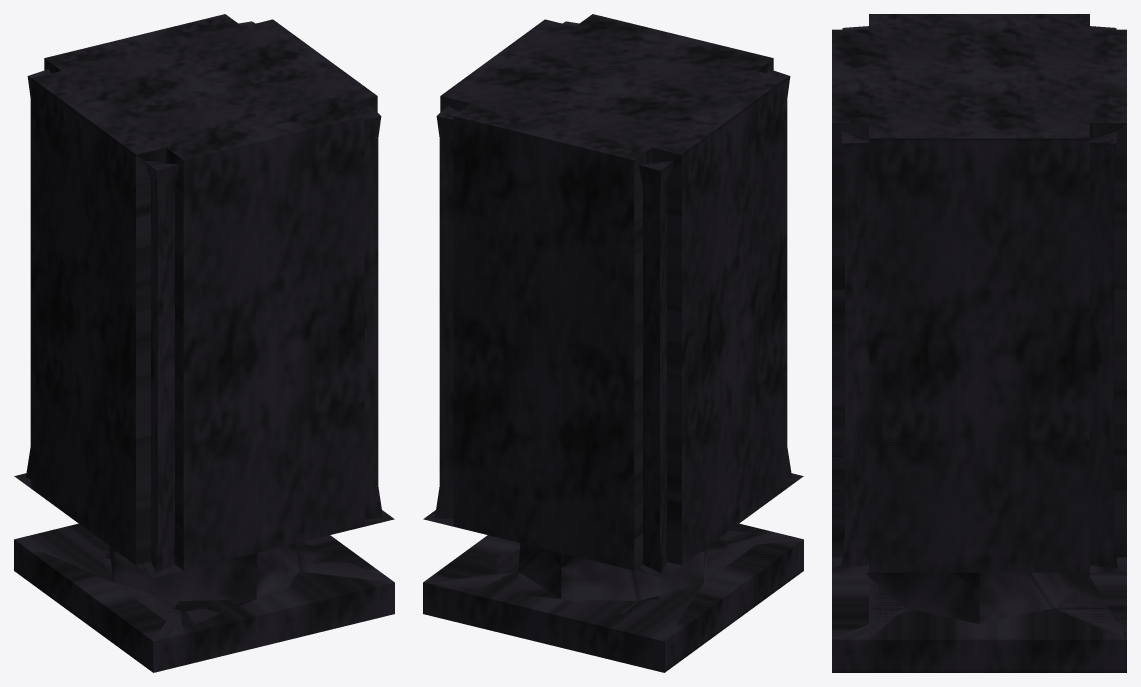
The model's file is DarknessObelisk.obj.
3 renders of one model, left to right at view 1: azimuth 30°, elevation 25°; view 2: azimuth 150°, elevation 25°; view 3: azimuth 270°, elevation 25°, orthographic. The views are drawn at different scales.
Parts seen in each view (by area): view 1: pCube1; view 2: pCube1; view 3: pCube1.
Part boxes in pixels (bbox=[...]): pCube1: bbox=[14, 14, 394, 672]; pCube1: bbox=[423, 14, 803, 672]; pCube1: bbox=[832, 14, 1126, 672].
Bounding box in the file's own units: 1 × 2 × 1.
